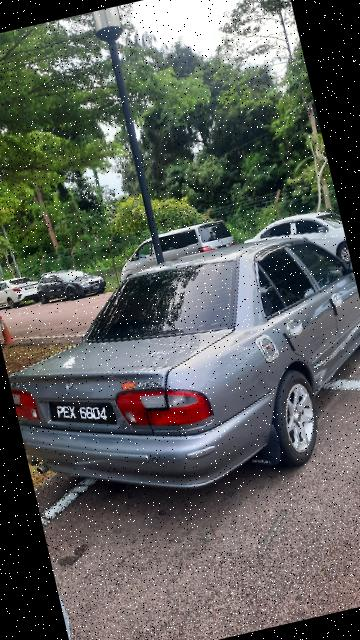License_Plate: (45, 390, 120, 441)
car: (1, 217, 360, 529)
